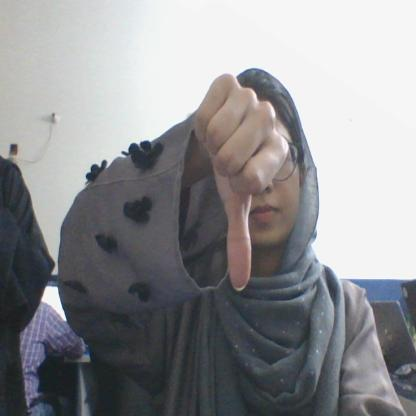thumbs-down: (192, 66, 291, 295)
